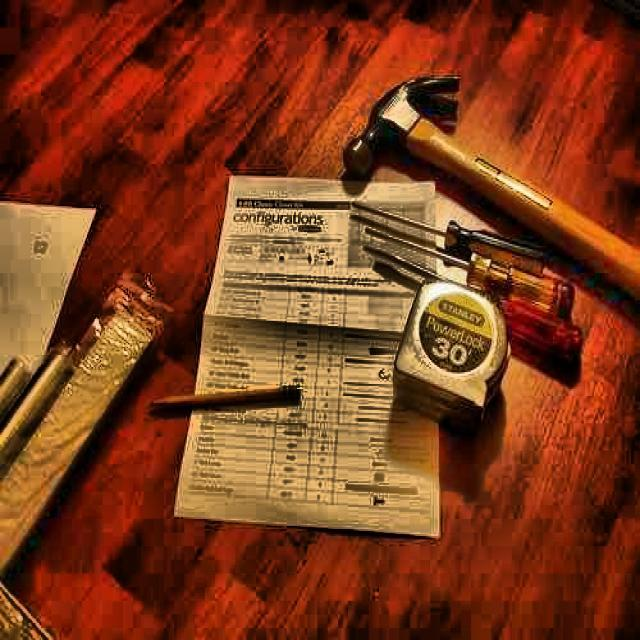hammer: (343, 74, 639, 318)
